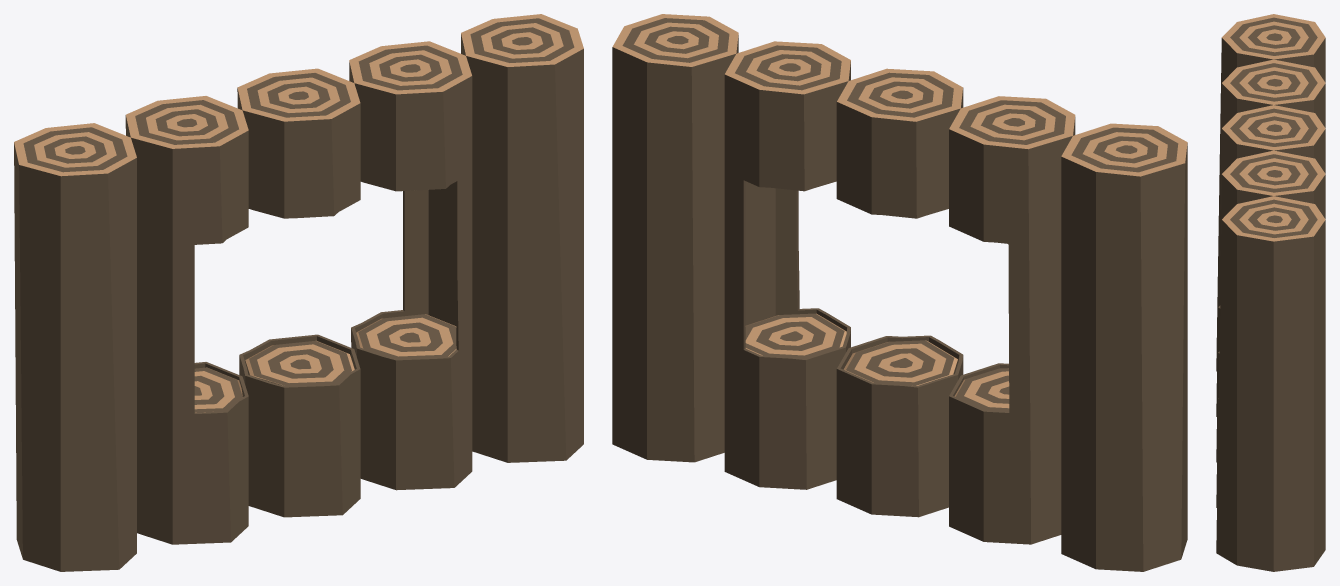
Rendered from ParedVentanaTronco.fbx.
3 renders of one model, left to right at view 1: azimuth 30°, elevation 25°; view 2: azimuth 150°, elevation 25°; view 3: azimuth 270°, elevation 25°, orthographic. The views are drawn at different scales.
Visible parts, largest first — view 1: VentanaTronco; view 2: VentanaTronco; view 3: VentanaTronco.
Part boxes in pixels (bbox=[...]): VentanaTronco: bbox=[14, 14, 583, 571]; VentanaTronco: bbox=[612, 14, 1187, 571]; VentanaTronco: bbox=[1216, 14, 1325, 571].
Size of the model in its own units: 1036 by 701 by 211.
